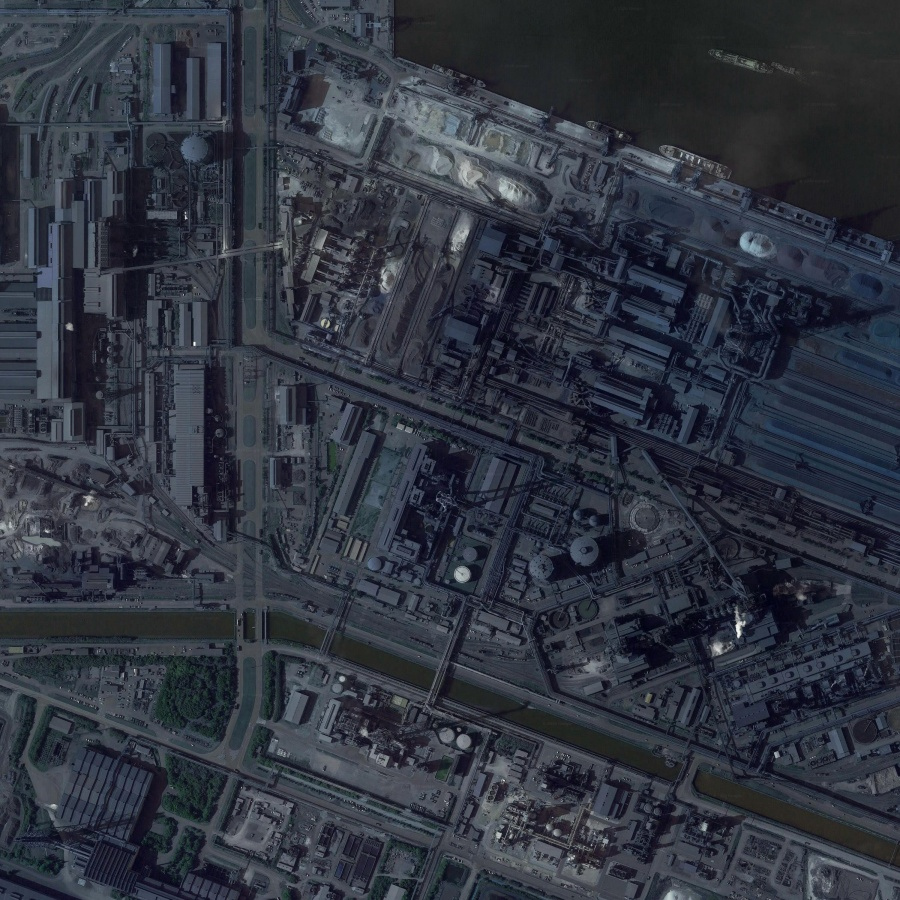PowerPlant: (250, 168, 891, 704)
